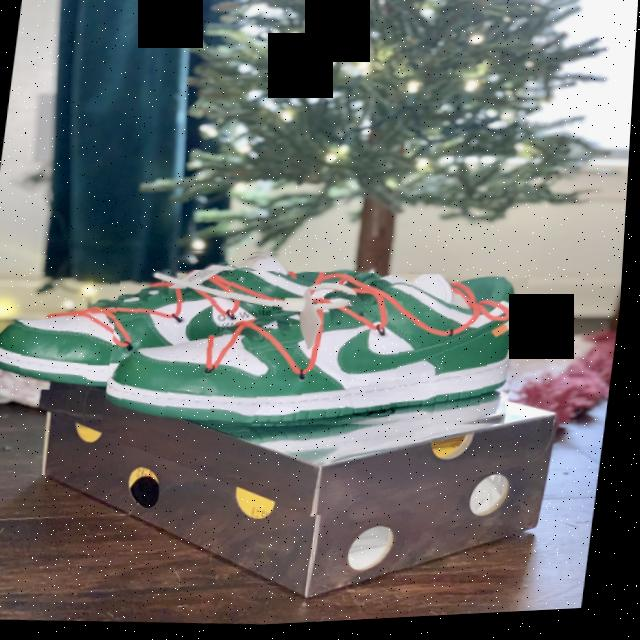shoe: (105, 253, 535, 455), (0, 228, 384, 414)
